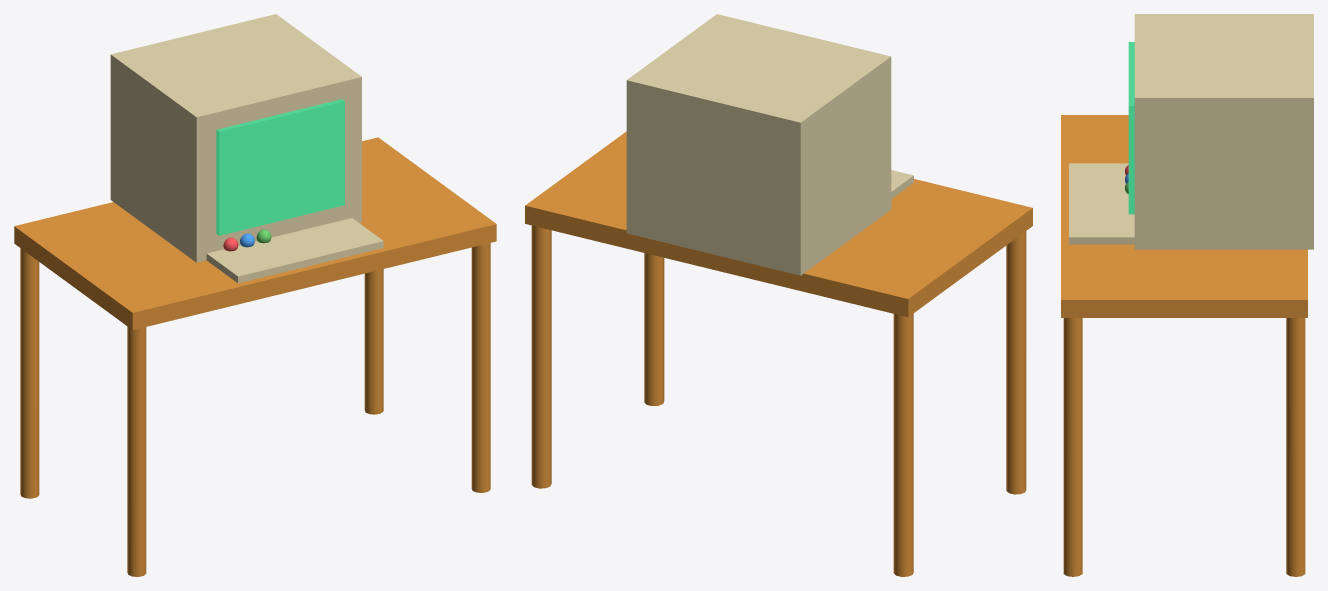
The model's file is pc_fun_0.glb.
3 views of the same model, side by side, from view 1: azimuth 30°, elevation 25°; view 2: azimuth 150°, elevation 25°; view 3: azimuth 270°, elevation 25° (orthographic). The views are drawn at different scales.
Size of the model in its own units: 1.1 by 1.19 by 0.635.
